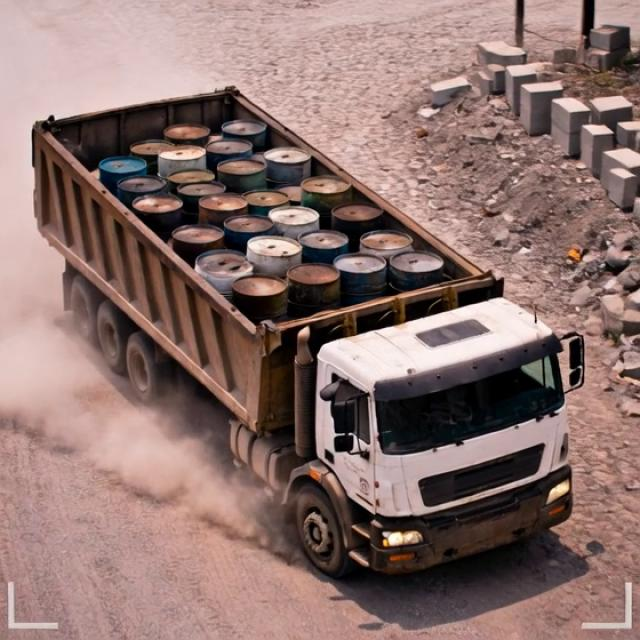Box: (27, 92, 542, 339)
Truck: (22, 58, 588, 574)
